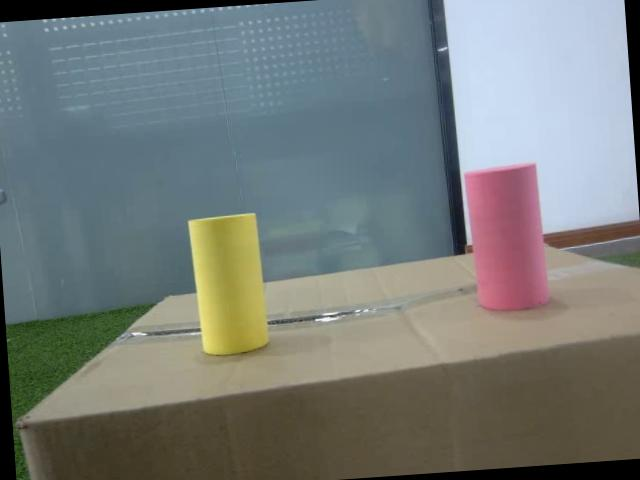red_cylinder: (464, 160, 550, 314)
yellow_cylinder: (186, 211, 268, 357)
